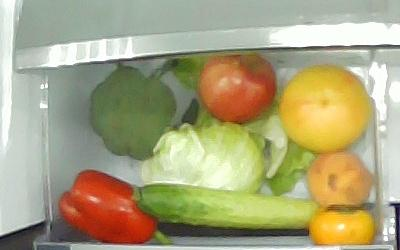apple: (198, 55, 276, 121)
broccoli: (88, 67, 174, 160)
cucumber: (129, 179, 321, 235)
grapefruit: (281, 66, 370, 154)
lettuce: (145, 121, 263, 196)
paprika: (59, 169, 169, 243)
peach: (305, 152, 372, 210)
persimmon: (308, 206, 375, 245)
